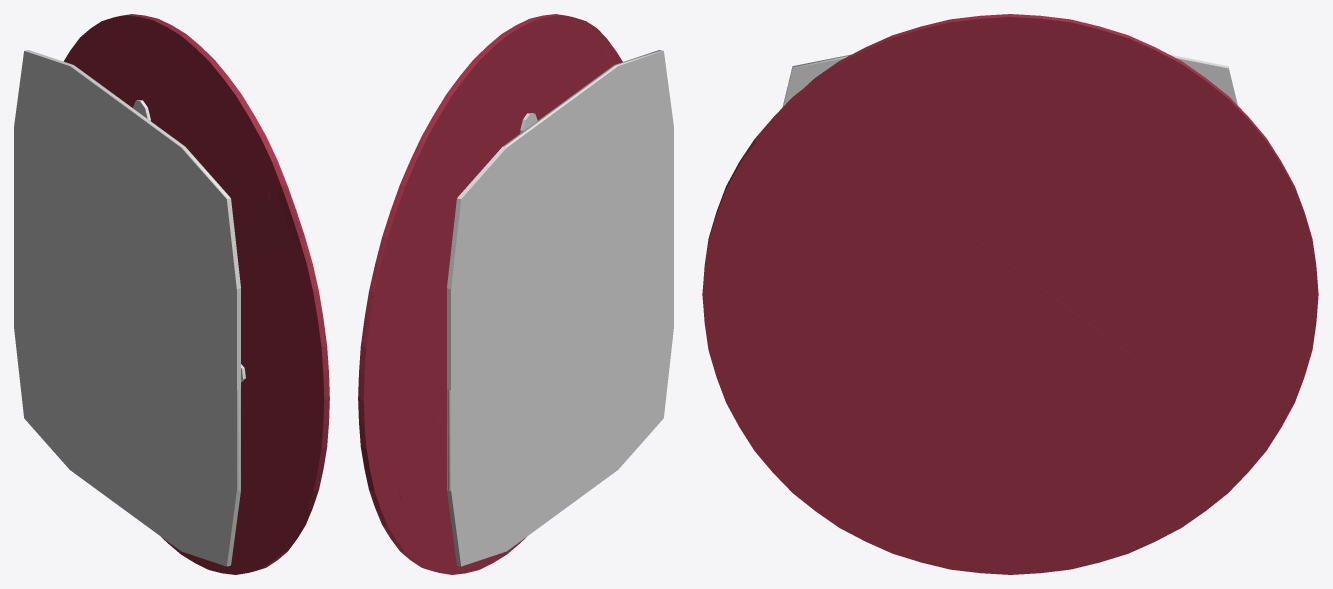
File: PleaseDontTouch.fbx
3 renders of one model, left to right at view 1: azimuth 30°, elevation 25°; view 2: azimuth 150°, elevation 25°; view 3: azimuth 270°, elevation 25°, orthographic. The views are drawn at different scales.
Visible parts, largest first — view 1: Sign, NoSign; view 2: Sign, NoSign; view 3: NoSign, Sign.
Boxes of the visible parts, x1,y1,x2,y2 form: Sign: (14,50,240,566); NoSign: (63,14,329,574); Sign: (447,50,673,566); NoSign: (358,14,622,574); NoSign: (702,14,1318,574); Sign: (782,54,1237,106).
Bounding box in the file's own units: 32.07 × 257 × 257.
